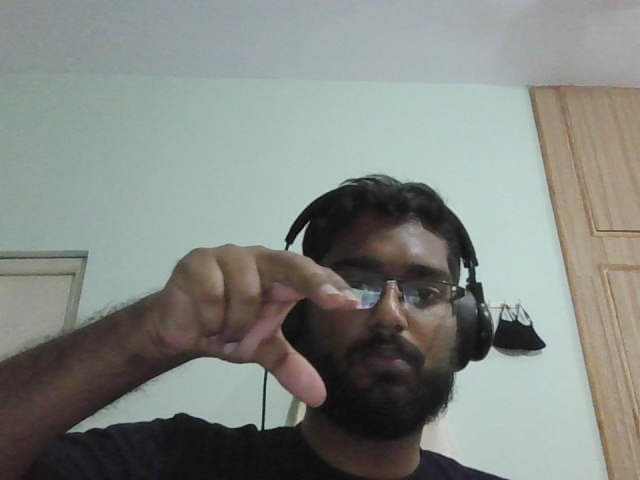No: (167, 234, 371, 428)
